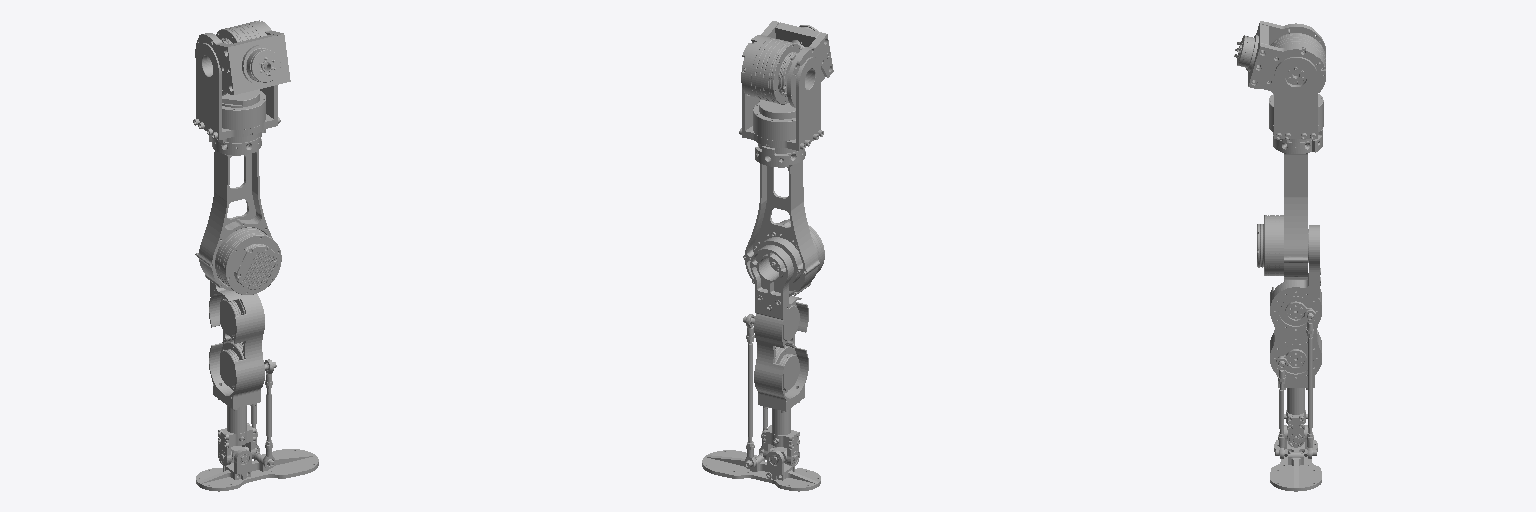
URDF robot description (left_leg):
<?xml version="1.0" ?>
<robot name="left_leg">
<mujoco>
    <compiler meshdir="meshes/" balanceinertia="true" discardvisual="false"/>
  </mujoco>
  <material name="silver">
    <color rgba="0.700 0.700 0.700 1.000"/>
  </material>
  <link name="world"/>
  <link name="Left_Hip_Pitch_1">
    <inertial>
      <origin xyz="5.535e-03 5.735e-02 -1.4768e-02" rpy="0 0 0"/>
      <mass   value="1.764294"/>
      <inertia
              ixx="0.003317"
              ixy="-0.0001465"
              ixz="4.49051e-05"
              iyy="0.002368"
              iyz="0.0003016"
              izz="0.003408"/>
    </inertial>
    <visual>
      <origin rpy="0 0 0" xyz="-0.0 -0.089761 0.081437"/>
      <geometry>
        <mesh filename="meshes/Left_Hip_Pitch_1.stl" scale="0.001 0.001 0.001"/>
      </geometry>
      <material name="silver"/>
    </visual>
    <collision>
      <origin rpy="0 0 0" xyz="-0.0 -0.089761 0.081437"/>
      <geometry>
        <mesh filename="meshes/Left_Hip_Pitch_1.stl" scale="0.001 0.001 0.001"/>
      </geometry>
    </collision>
  </link>
  <link name="Left_Link2_Hip_1">
    <inertial>
      <origin xyz="-0.044636 -1.6e-05 -0.073241" rpy="0 0 0"/>
      <mass   value="1.291801"/>
      <inertia
          ixx="0.002359"
          ixy="9.43829e-07"
          ixz="-9.2706e-07"
          iyy="0.003152"
          iyz="-3.42947e-06"
          izz="0.001975"/>
    </inertial>

    <visual>
      <origin rpy="0 0 0" xyz="-0.0445 -0.162205 0.100849"/>
      <geometry>
        <mesh filename="meshes/Left_Link2_Hip_1.stl" scale="0.001 0.001 0.001"/>
      </geometry>
      <material name="silver"/>
    </visual>
    <collision>
      <origin rpy="0 0 0" xyz="-0.0445 -0.162205 0.100849"/>
      <geometry>
        <mesh filename="meshes/Left_Link2_Hip_1.stl" scale="0.001 0.001 0.001"/>
      </geometry>
    </collision>
  </link>
  <link name="Left_Thigh_1">
    <inertial>
      <!-- CoM 위치: -0.314 mm, 148.871 mm, -387.384 mm  →  m 단위 -->
      <origin xyz="-0.000314 -0.013334 -0.166035" rpy="0 0 0"/>

      <!-- 질량: 1867.391 g → kg -->
      <mass value="1.867391"/>

      <!-- 관성 모멘트: (g·mm²)  →  kg·m²  (×10⁻⁹) -->
      <inertia ixx="0.01165"
              ixy="2.6779e-05"
              ixz="-3.2964e-05"
              iyy="0.01208"
              iyz="-9.808e-04"
              izz="0.002085"/>
    </inertial>

    <visual>
      <origin rpy="0 0 0" xyz="0.0 -0.162205 0.221349"/>
      <geometry>
        <mesh filename="meshes/Left_Thigh_1.stl" scale="0.001 0.001 0.001"/>
      </geometry>
      <material name="silver"/>
    </visual>
    <collision>
      <origin rpy="0 0 0" xyz="0.0 -0.162205 0.221349"/>
      <geometry>
        <mesh filename="meshes/Left_Thigh_1.stl" scale="0.001 0.001 0.001"/>
      </geometry>
    </collision>
  </link>
  <link name="Left_Shank_1">
    <inertial>
      <origin xyz="0.009700 -0.013414 -0.163789" rpy="0 0 0"/>
      <mass   value="1.894225"/>
      <inertia ixx="0.016810"
               ixy="0.000031714"
               ixz="0.000844700"
               iyy="0.016630"
               iyz="-0.000889700"
               izz="0.001510"/>
    </inertial>
    <visual>
      <origin rpy="0 0 0" xyz="0.0 -0.179205 0.424849"/>
      <geometry>
        <mesh filename="meshes/Left_Shank_1.stl" scale="0.001 0.001 0.001"/>
      </geometry>
      <material name="silver"/>
    </visual>
    <collision>
      <origin rpy="0 0 0" xyz="0.0 -0.179205 0.424849"/>
      <geometry>
        <mesh filename="meshes/Left_Shank_1.stl" scale="0.001 0.001 0.001"/>
      </geometry>
    </collision>
  </link>
  <link name="Left_Ankle_Roll_1">
    <inertial>
      <origin xyz="-0.019 0 0" rpy="0 0 0"/>
      <mass value="0.040313"/>
      <inertia ixx="3.498104000e-06"
              ixy="1.000000000e-12"
              ixz="-1.165000000e-16"
              iyy="5.125014000e-06"
              iyz="0.000000000e+00"
              izz="7.009009000e-06"/>
    </inertial>

    <visual>
      <origin rpy="0 0 0" xyz="-0.019 -0.162205 0.759849"/>
      <geometry>
        <mesh filename="meshes/Left_Ankle_Roll_1.stl" scale="0.001 0.001 0.001"/>
      </geometry>
      <material name="silver"/>
    </visual>
    <collision>
      <origin rpy="0 0 0" xyz="-0.019 -0.162205 0.759849"/>
      <geometry>
        <mesh filename="meshes/Left_Ankle_Roll_1.stl" scale="0.001 0.001 0.001"/>
      </geometry>
    </collision>
  </link>
  <link name="Left_Foot_1">
    <inertial>
      <origin xyz="0.032253955762776725 0.015102247849545392 -0.03191414365676737" rpy="0 0 0"/>
      <mass value="0.343229"/>
      <inertia ixx="1.546000e-04" iyy="8.770000e-04" izz="9.434000e-04"
         ixy="-9.970000e-09" iyz="4.036000e-08" ixz="5.023091e-05"/>
    </inertial>
    <visual>
      <origin xyz="0.0 -0.147205 0.759849" rpy="0 0 0"/>
      <geometry>
        <mesh filename="meshes/Left_Foot_1.stl" scale="0.001 0.001 0.001"/>
      </geometry>
      <material name="silver"/>
    </visual>
    <collision>
      <origin xyz="0.0 -0.147205 0.759849" rpy="0 0 0"/>
      <geometry>
        <mesh filename="meshes/Left_Foot_1.stl" scale="0.001 0.001 0.001"/>
      </geometry>
    </collision>
  </link>


  <!-- 왼쪽 다리 -->
  <joint name="Left_Hip_Pitch" type="continuous">
    <origin rpy="0 0 0" xyz="0.0 0.089761 -0.081437"/>
    <parent link="world"/>
    <child link="Left_Hip_Pitch_1"/>
    <axis xyz="-0.0 0.965926 -0.258819"/>
  </joint>
  <joint name="Left_Hip_Roll" type="continuous">
    <origin rpy="0 0 0" xyz="0.0445 0.072444 -0.019412"/>
    <parent link="Left_Hip_Pitch_1"/>
    <child link="Left_Link2_Hip_1"/>
    <axis xyz="1.0 0.0 -0.0"/>
  </joint>
  <joint name="Left_Hip_Yaw" type="continuous">
    <origin rpy="0 0 0" xyz="-0.0445 0.0 -0.1205"/>
    <parent link="Left_Link2_Hip_1"/>
    <child link="Left_Thigh_1"/>
    <axis xyz="-0.0 0.0 -1.0"/>
  </joint>
    <joint name="Left_Knee" type="continuous">
    <origin rpy="0 0 0" xyz="0.0 0.017 -0.2035"/>
    <parent link="Left_Thigh_1"/>
    <child link="Left_Shank_1"/>
    <axis xyz="-0.0 1.0 0.0"/>
  </joint>
  <joint name="Left_Ankle_Roll" type="continuous">
    <origin rpy="0 0 0" xyz="0.019 -0.017 -0.335"/>
    <parent link="Left_Shank_1"/>
    <child link="Left_Ankle_Roll_1"/>
    <axis xyz="-1.0 -0.0 0.0"/>
  </joint>
  <joint name="Left_Ankle_Pitch" type="continuous">
    <origin xyz="-0.019 -0.015 0.0" rpy="0 0 0"/>
    <parent link="Left_Ankle_Roll_1"/>
    <child link="Left_Foot_1"/>
    <axis xyz="-0.0 1.0 -0.0"/>
  </joint>
</robot>

--- What the picture shows (computed from the rendered views, not written in the file) ---
The picture shows the robot from 3 angles, left to right: view 1: azimuth 30°, elevation 25°; view 2: azimuth 150°, elevation 25°; view 3: azimuth 270°, elevation 25°; orthographic projection.
Robot: left_leg — 7 links, 6 joints (6 continuous); root link world; default pose: every joint at zero.
Visible links, largest first — view 1: Left_Thigh_1, Left_Shank_1, Left_Link2_Hip_1, Left_Hip_Pitch_1, Left_Foot_1; view 2: Left_Shank_1, Left_Thigh_1, Left_Hip_Pitch_1, Left_Link2_Hip_1, Left_Foot_1; view 3: Left_Shank_1, Left_Thigh_1, Left_Link2_Hip_1, Left_Hip_Pitch_1, Left_Foot_1.
Boxes of the visible links, <box> form: Left_Thigh_1: <box>195,134,281,294</box>; Left_Shank_1: <box>209,281,276,468</box>; Left_Link2_Hip_1: <box>193,43,280,142</box>; Left_Hip_Pitch_1: <box>195,20,290,95</box>; Left_Foot_1: <box>196,449,318,491</box>; Left_Shank_1: <box>743,245,808,469</box>; Left_Thigh_1: <box>743,146,824,296</box>; Left_Hip_Pitch_1: <box>741,21,833,107</box>; Left_Link2_Hip_1: <box>739,57,823,153</box>; Left_Foot_1: <box>702,450,820,491</box>; Left_Shank_1: <box>1270,225,1321,458</box>; Left_Thigh_1: <box>1257,129,1322,279</box>; Left_Link2_Hip_1: <box>1269,57,1323,142</box>; Left_Hip_Pitch_1: <box>1234,21,1325,93</box>; Left_Foot_1: <box>1270,425,1321,491</box>.
Size in the robot's own frame: 0.2025 by 0.15 by 0.7533 metres.
6 mesh visuals loaded from 6 distinct referenced files (6 binary STL).
